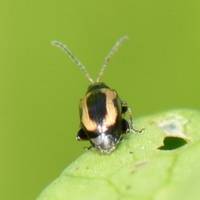insect: (51, 36, 143, 153)
